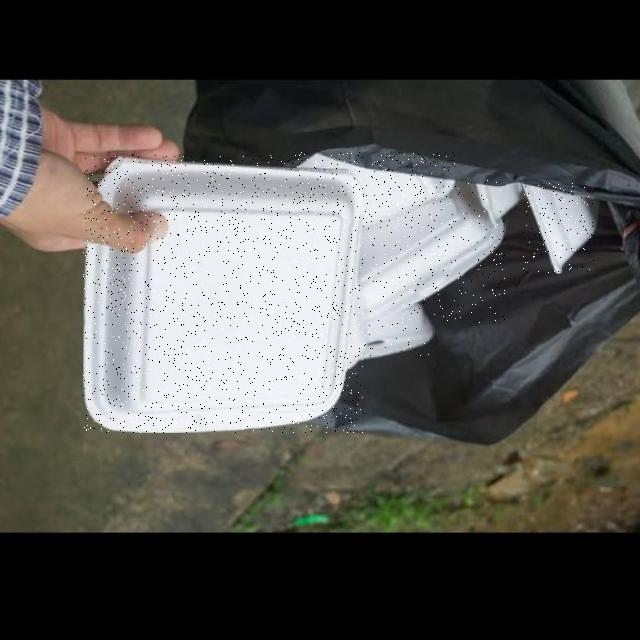styrofoam: (83, 154, 364, 433), (359, 180, 505, 323), (300, 152, 456, 226), (523, 183, 594, 273), (360, 302, 434, 358)
